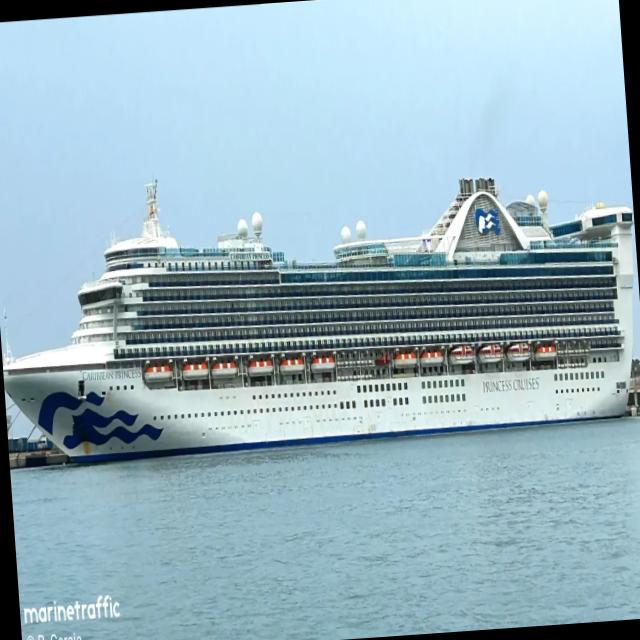Cruise: (2, 178, 633, 461)
